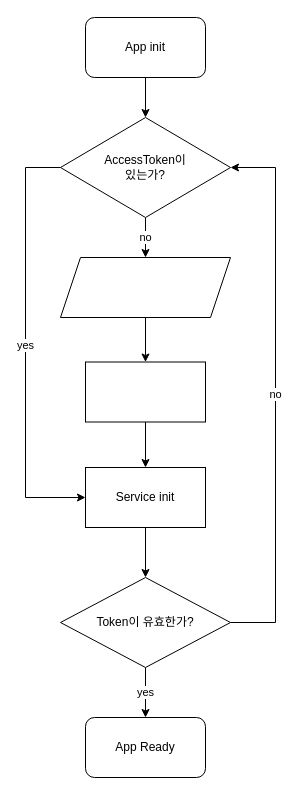
This 301x795 diagram has some shape labels left out. Each missing label, with the box of its shape:
Login (authorize): (60, 256, 230, 318)
save accessToken: (84, 361, 206, 422)
